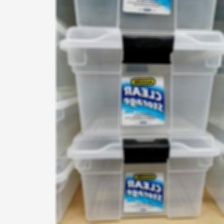plastic_box: (55, 23, 223, 138), (62, 123, 224, 224), (68, 0, 221, 37)
